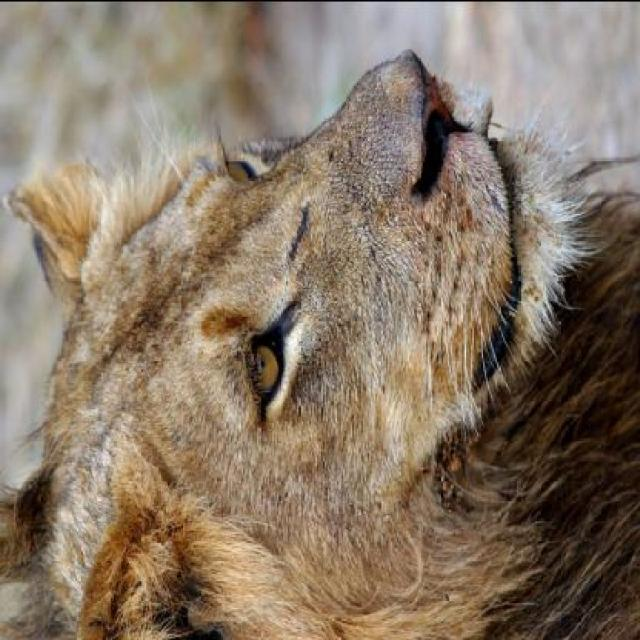Lion: (9, 17, 638, 638)
